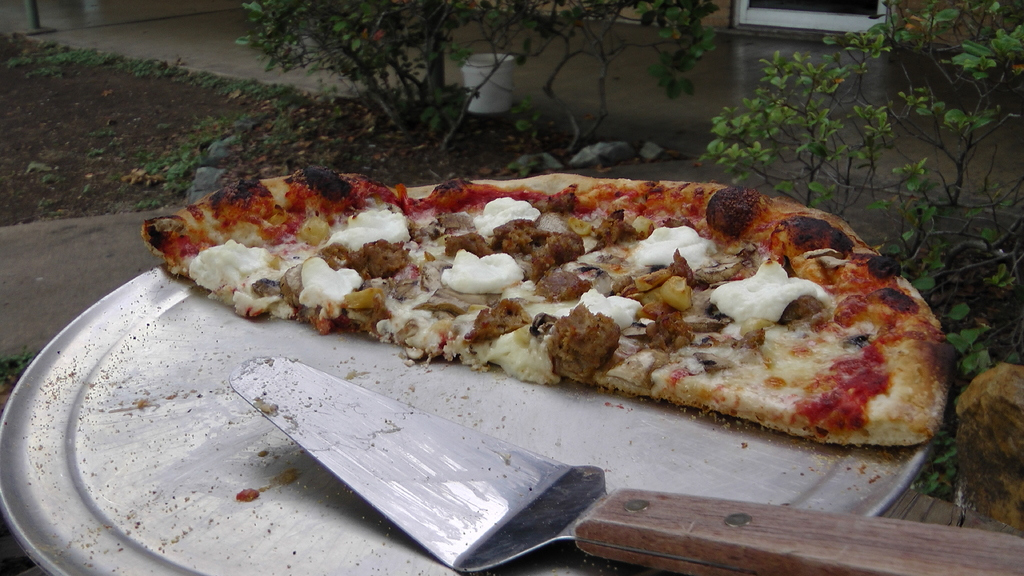Pizza: (143, 219, 956, 424)
